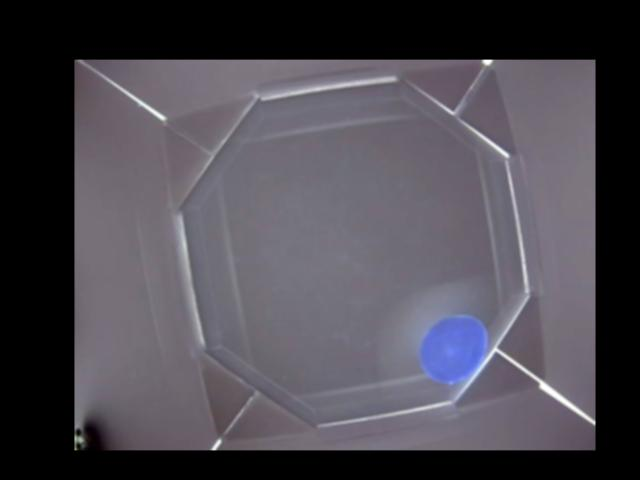Potato: (421, 314, 487, 379)
